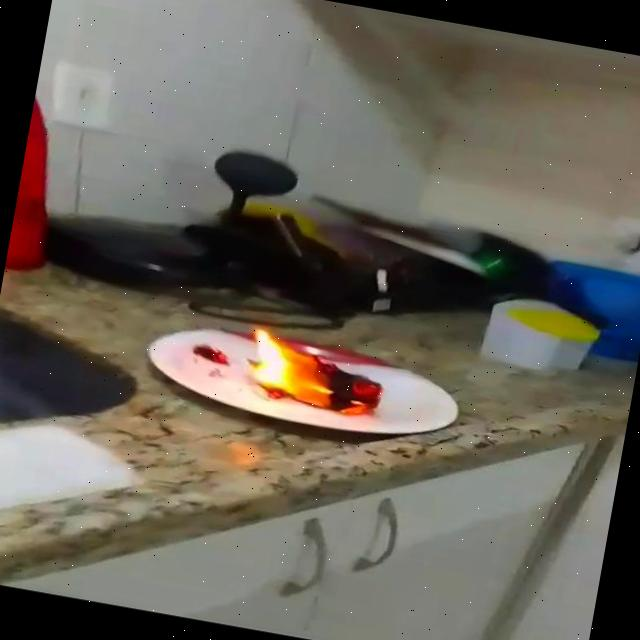fire: (234, 322, 394, 424)
